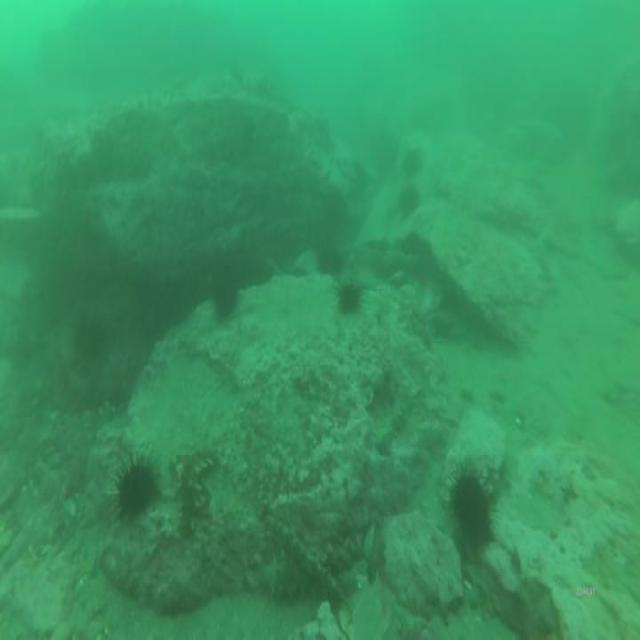echinus: (446, 460, 499, 558), (109, 442, 162, 531), (71, 304, 111, 364), (206, 265, 243, 324), (336, 276, 364, 318), (316, 244, 346, 276), (398, 180, 420, 223), (402, 146, 424, 180)
holothurian: (263, 554, 321, 604), (177, 447, 219, 514), (372, 395, 408, 450)
